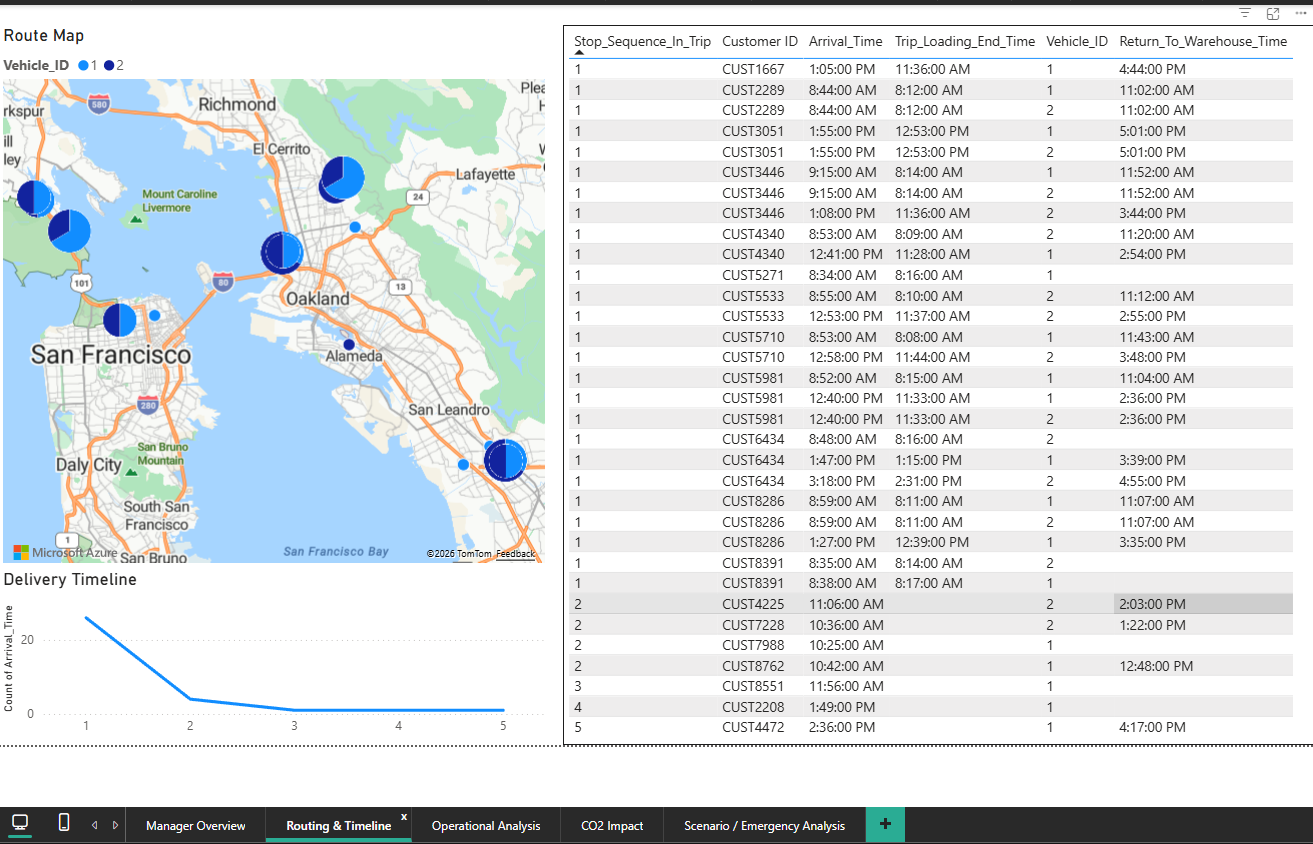

The dashboard page shown, as its layout file describes it:
{"tool":"powerbi","page":{"name":"Routing & Timeline","canvas":[1280,720],"ordinal":1},"visuals":[{"type":"azureMap","title":"Route Map","fields":{"Y":["Final_Schedule_Model.Geocoded_Locations.Latitude"],"X":["Final_Schedule_Model.Geocoded_Locations.Longitude"],"Series":["Final_Schedule_Model.Vehicle_ID"],"Size":["CountNonNull(Final_Schedule_Model.Stop_Sequence_In_Trip)"]},"box":[0,19.9,537.1,528.6],"z":0},{"type":"tableEx","fields":{"Values":["Final_Schedule_Model.Stop_Sequence_In_Trip","Final_Schedule_Model.Customer ID","Final_Schedule_Model.Arrival_Time","Final_Schedule_Model.Trip_Loading_End_Time","Final_Schedule_Model.Vehicle_ID","Final_Schedule_Model.Return_To_Warehouse_Time"]},"box":[549.9,19.9,730.1,700.3],"z":1},{"type":"lineChart","title":"Delivery Timeline","fields":{"Category":["Final_Schedule_Model.Stop_Sequence_In_Trip"],"Y":["CountNonNull(Final_Schedule_Model.Arrival_Time)"]},"box":[0,549,537,171],"z":2}]}

Visuals, with their boxes on the page's 1280x720 design canvas (x1, y1, x2, y2). These are canvas units, not pixel positions in the 1313x844 screenshot, which may show the page scaled, cropped or inside an application window:
"Route Map" azureMap: 0, 20, 537, 548
tableEx - Final_Schedule_Model.Stop_Sequence_In_Trip x Final_Schedule_Model.Customer ID: 550, 20, 1280, 720
"Delivery Timeline" lineChart: 0, 549, 537, 720
